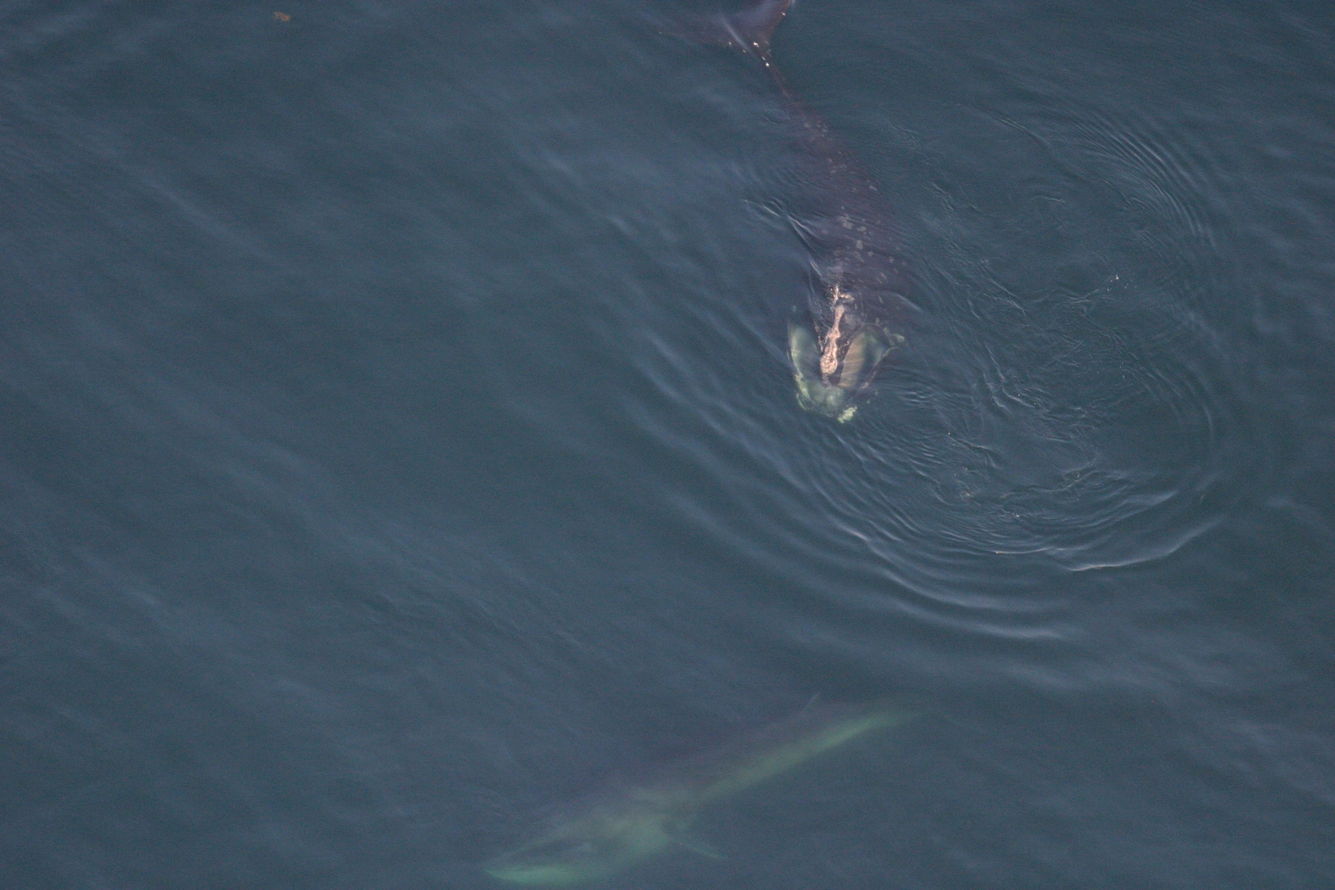whale: (650, 0, 935, 429), (472, 660, 996, 890)
